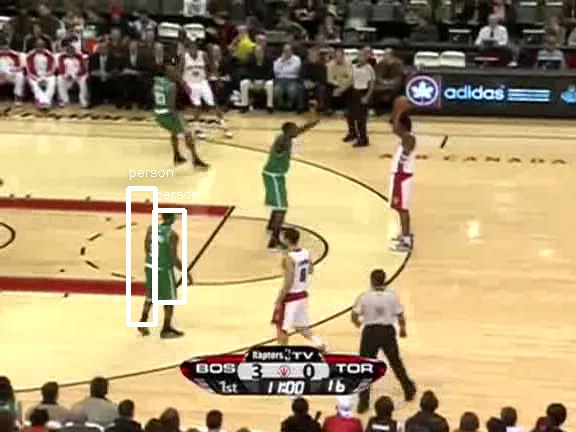person: (141, 226, 175, 307), (140, 226, 174, 307), (142, 226, 176, 307), (141, 225, 175, 306), (141, 227, 175, 308)
target_negative: (270, 110, 525, 390), (92, 207, 326, 293), (409, 169, 508, 314), (191, 126, 211, 350), (270, 3, 344, 27), (400, 237, 404, 280)
